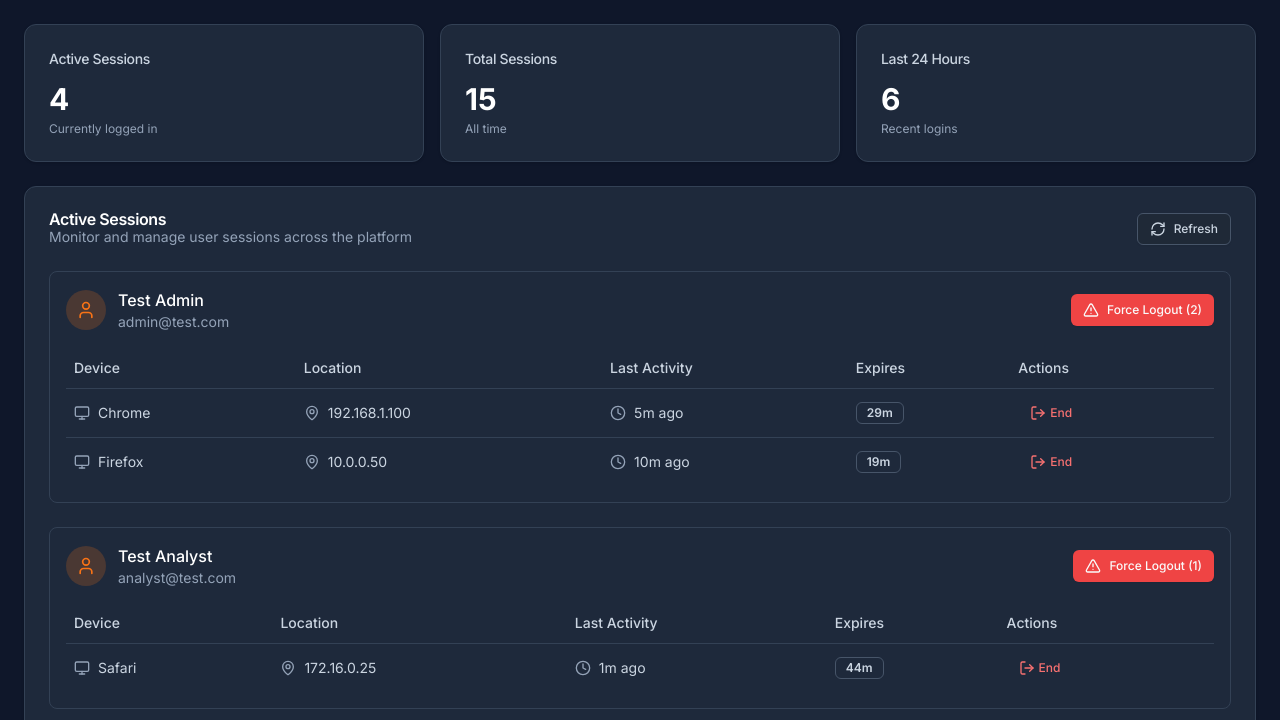
it: Admin Components Integration Tests › SessionManagement › Revoke/Terminate Specific Sessions › should open terminate confirmation dialog when End is clicked
Click first End button
Click the button "End" in the row of "Chrome": [1051, 412] box [1018, 396, 1084, 428]
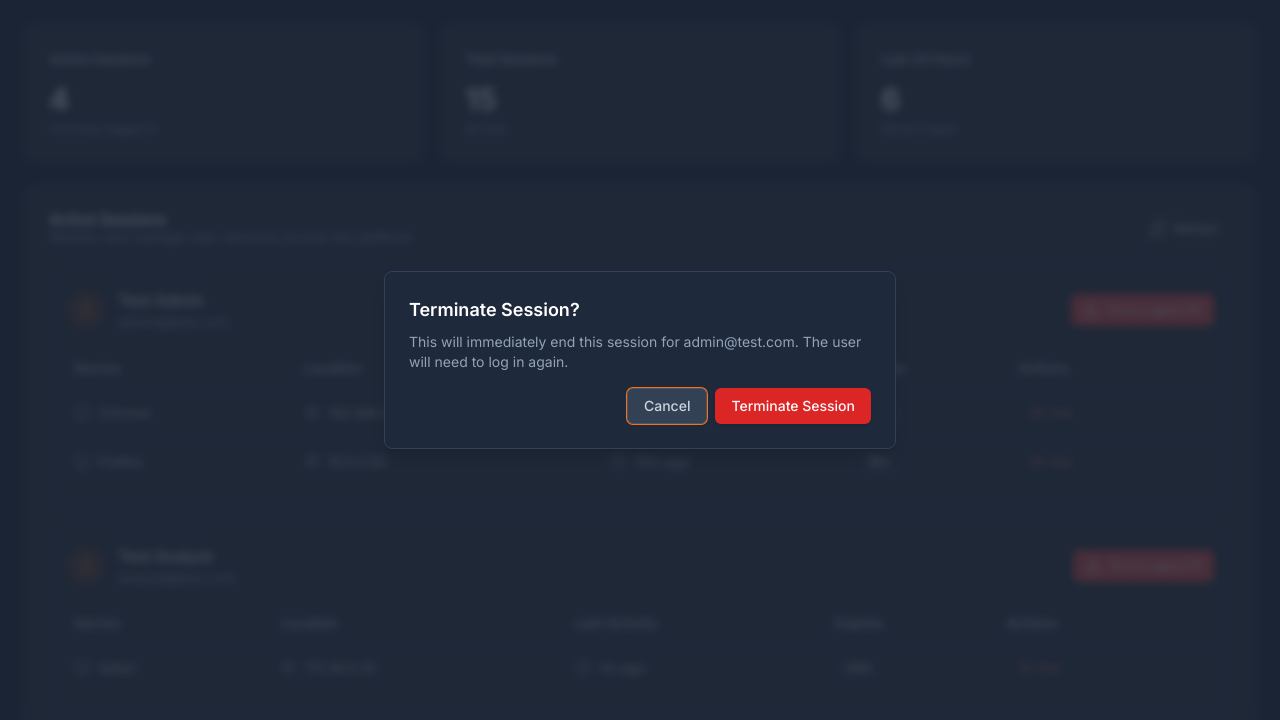
Result: the heading "Terminate Session?" is shown at [409, 299, 580, 320]
Result: the text "This will immediately end this session" is shown at [409, 333, 684, 350]
